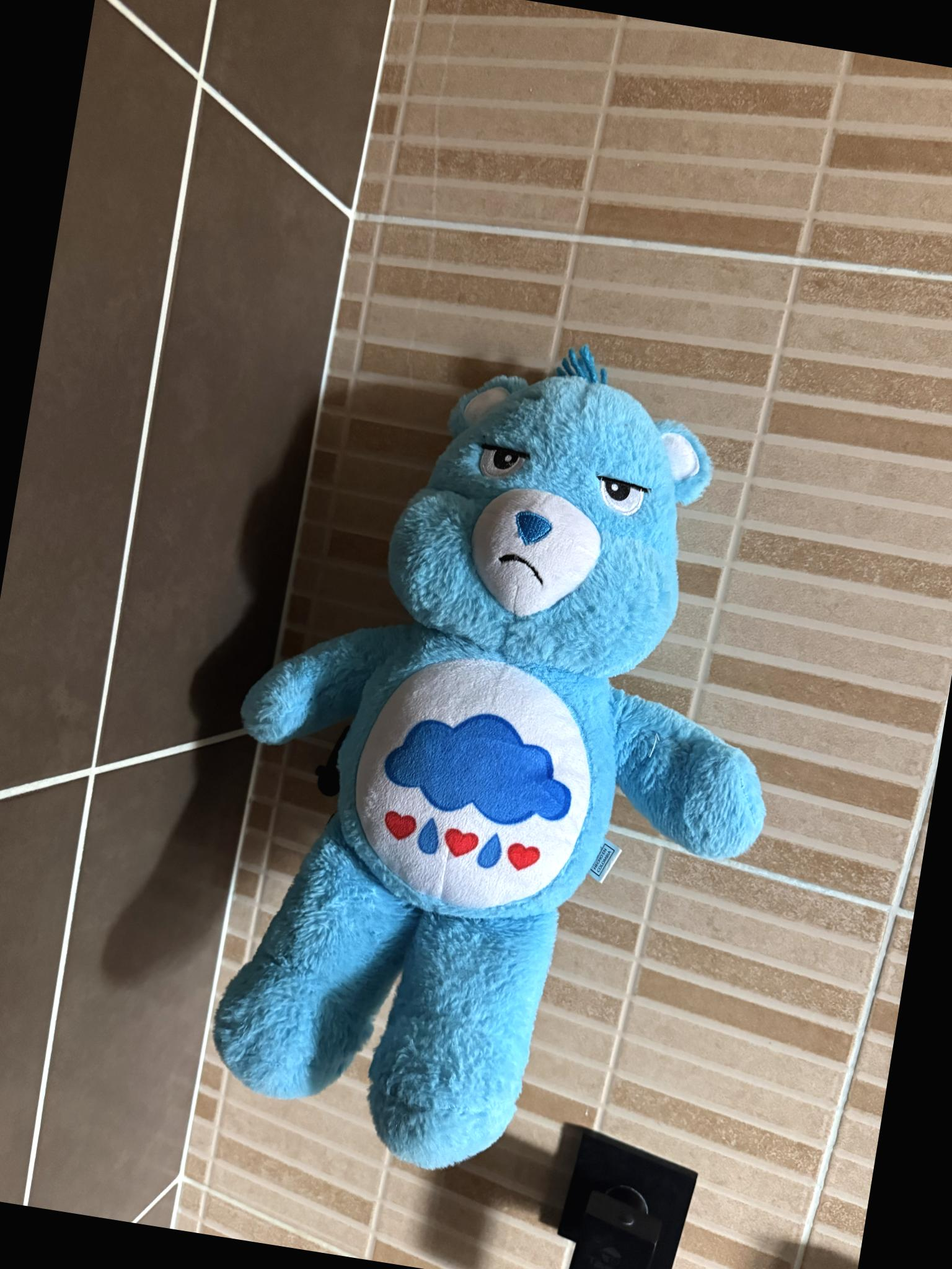peluche_Juan Jose: (171, 294, 835, 1213)
